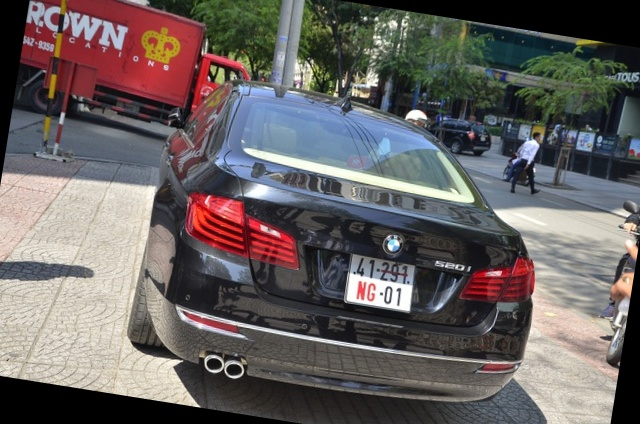plate: (339, 249, 417, 316)
